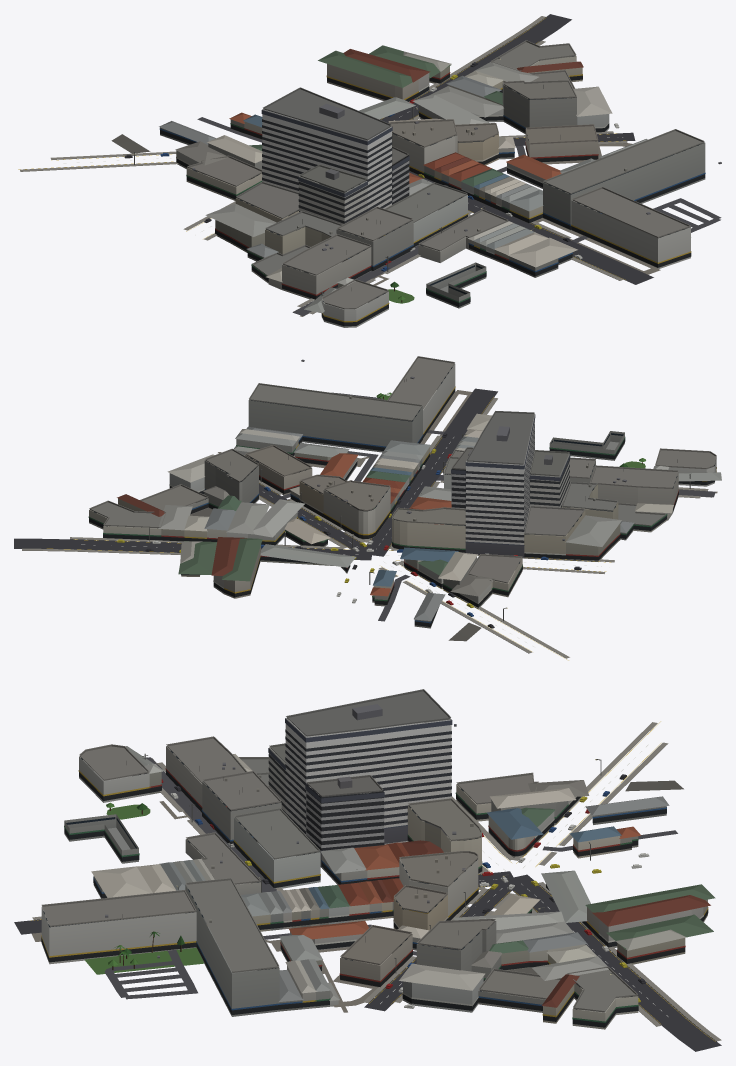
3 views of the same model, one above another, from view 1: azimuth 30°, elevation 25°; view 2: azimuth 150°, elevation 25°; view 3: azimuth 270°, elevation 25° (orthographic). The views are drawn at different scales.
Parts seen in each view (by area): view 1: Buildings__r-18c-7-col, Windows__r-18c-7, Roads_Major__r-18c-7, Sidewalks__r-18c-7-col, Roads_Minor__r-18c-7, La Nueva Pharmacy-col, Footways__r-18c-7, Landuse__r-18c-7, Props_Solid__r-18c-7-col; view 2: Buildings__r-18c-7-col, Windows__r-18c-7, Roads_Major__r-18c-7, Sidewalks__r-18c-7-col, Props_Solid__r-18c-7-col, Sungold Marketing Corporation-col, Roads_Minor__r-18c-7, La Nueva Pharmacy-col, Footways__r-18c-7, Markings__r-18c-7, Landuse__r-18c-7; view 3: Buildings__r-18c-7-col, Windows__r-18c-7, Roads_Major__r-18c-7, Sidewalks__r-18c-7-col, Roads_Minor__r-18c-7, Sungold Marketing Corporation-col, La Nueva Pharmacy-col, Landuse__r-18c-7, BDO.001-col, Props_Solid__r-18c-7-col, Jollibee.001-col, Footways__r-18c-7 (+1 smaller).
Part boxes in pixels (left/top/right/bottom): Buildings__r-18c-7-col: left=159, top=40, right=721, bottom=327; Windows__r-18c-7: left=159, top=56, right=705, bottom=326; Roads_Major__r-18c-7: left=380, top=14, right=653, bottom=284; Sidewalks__r-18c-7-col: left=20, top=16, right=627, bottom=314; Roads_Minor__r-18c-7: left=197, top=117, right=721, bottom=316; La Nueva Pharmacy-col: left=343, top=49, right=430, bottom=95; Footways__r-18c-7: left=293, top=143, right=660, bottom=316; Landuse__r-18c-7: left=111, top=134, right=414, bottom=303; Props_Solid__r-18c-7-col: left=124, top=57, right=619, bottom=302; Buildings__r-18c-7-col: left=89, top=356, right=721, bottom=628; Windows__r-18c-7: left=88, top=367, right=716, bottom=626; Roads_Major__r-18c-7: left=14, top=388, right=497, bottom=560; Sidewalks__r-18c-7-col: left=22, top=397, right=708, bottom=658; Props_Solid__r-18c-7-col: left=117, top=392, right=690, bottom=628; Sungold Marketing Corporation-col: left=140, top=484, right=208, bottom=514; Roads_Minor__r-18c-7: left=282, top=392, right=715, bottom=621; La Nueva Pharmacy-col: left=211, top=537, right=246, bottom=593; Footways__r-18c-7: left=218, top=390, right=717, bottom=497; Markings__r-18c-7: left=47, top=397, right=610, bottom=660; Landuse__r-18c-7: left=190, top=395, right=645, bottom=641; Buildings__r-18c-7-col: left=41, top=689, right=715, bottom=1029; Windows__r-18c-7: left=41, top=750, right=708, bottom=1027; Roads_Major__r-18c-7: left=14, top=871, right=721, bottom=1051; Sidewalks__r-18c-7-col: left=32, top=722, right=721, bottom=1041; Roads_Minor__r-18c-7: left=104, top=757, right=677, bottom=999; Sungold Marketing Corporation-col: left=478, top=968, right=561, bottom=1012; La Nueva Pharmacy-col: left=592, top=895, right=710, bottom=947; Landuse__r-18c-7: left=84, top=780, right=683, bottom=974; BDO.001-col: left=615, top=929, right=685, bottom=964; Props_Solid__r-18c-7-col: left=109, top=753, right=649, bottom=1008; Jollibee.001-col: left=569, top=826, right=621, bottom=858; Footways__r-18c-7: left=32, top=758, right=380, bottom=1012.
Bounding box in the file's own units: 349 × 61.9 × 316.
